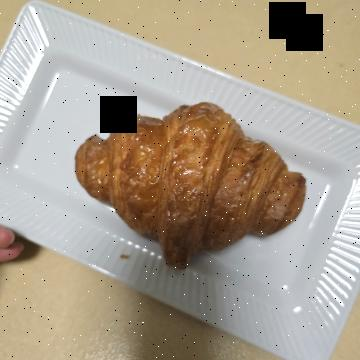croissant: (90, 33, 289, 283)
